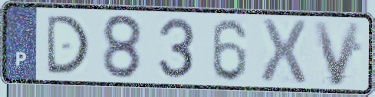3: (156, 16, 197, 82)
6: (210, 16, 249, 85)
8: (100, 13, 145, 81)
D: (44, 13, 92, 76)
V: (310, 20, 365, 89)
X: (259, 16, 309, 86)
